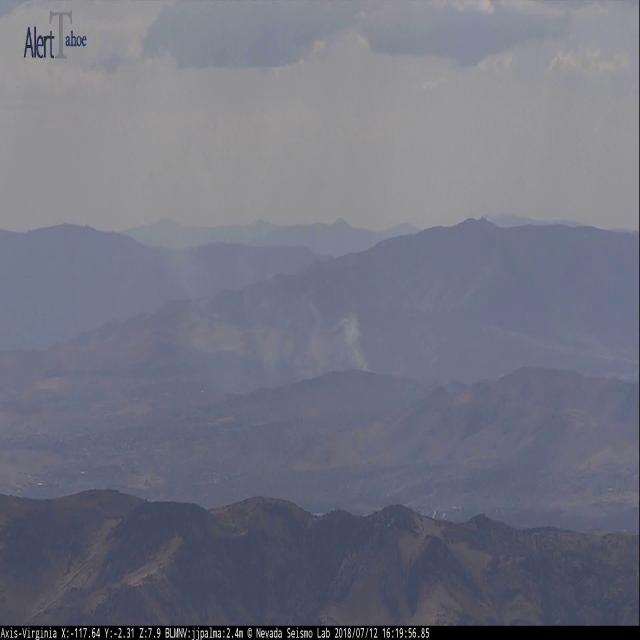smoke: (148, 153, 371, 373)
